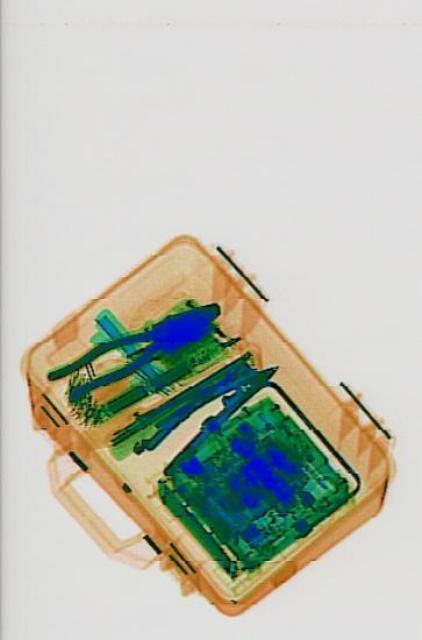Pliers: (43, 283, 222, 411)
